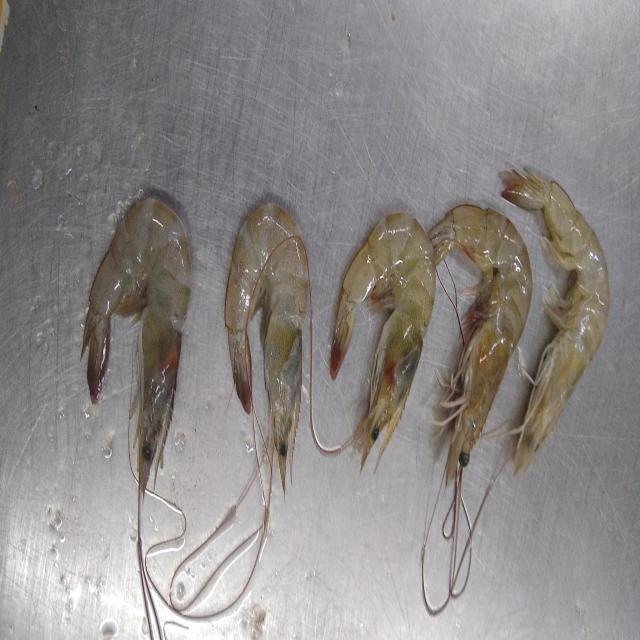shrimp: (502, 169, 610, 476), (81, 198, 192, 496), (430, 204, 532, 484), (330, 211, 436, 469), (225, 204, 309, 491)
